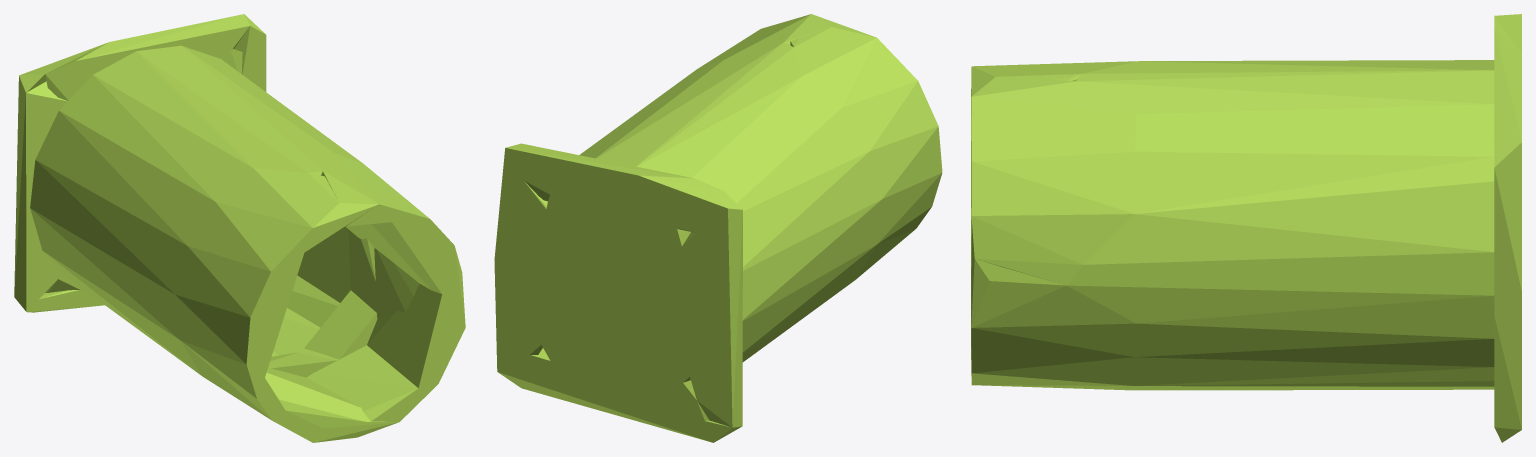
3 views of the same model, side by side, from view 1: azimuth 30°, elevation 25°; view 2: azimuth 150°, elevation 25°; view 3: azimuth 270°, elevation 25° (orthographic). The views are drawn at different scales.
Visible parts, largest first — view 1: Right_arm; view 2: Right_arm; view 3: Right_arm.
Boxes of the visible parts, x1,y1,x2,y2 form: Right_arm: [14, 14, 465, 442]; Right_arm: [494, 14, 942, 442]; Right_arm: [971, 14, 1521, 442].
Size of the model in its own units: 0.125 by 0.125 by 0.2001.
